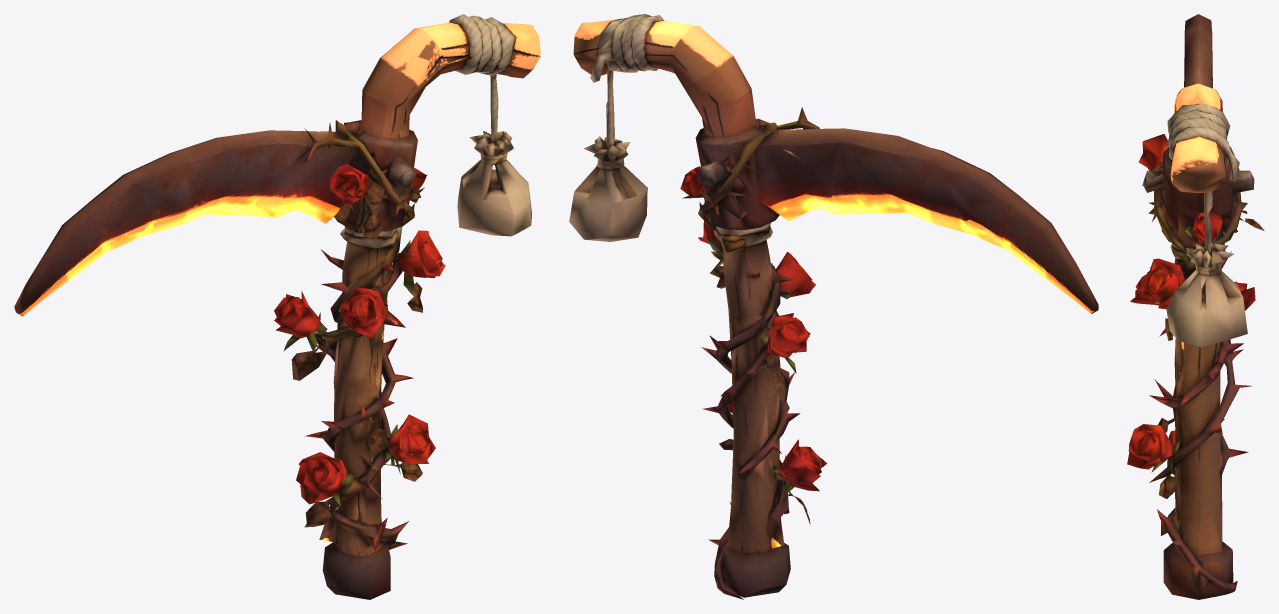
Rendered from UqGardener_Scythe-BUP3SY8Y.glb.
The picture shows the model from 3 angles, left to right: view 1: azimuth 30°, elevation 25°; view 2: azimuth 150°, elevation 25°; view 3: azimuth 270°, elevation 25°; orthographic projection.
Visible parts, largest first — view 1: tripo_node_ec9a44a7-088e-430a-a342-aabb72b187aa; view 2: tripo_node_ec9a44a7-088e-430a-a342-aabb72b187aa; view 3: tripo_node_ec9a44a7-088e-430a-a342-aabb72b187aa.
Boxes of the visible parts, x1,y1,x2,y2 form: tripo_node_ec9a44a7-088e-430a-a342-aabb72b187aa: (14,14,540,599); tripo_node_ec9a44a7-088e-430a-a342-aabb72b187aa: (569,14,1098,599); tripo_node_ec9a44a7-088e-430a-a342-aabb72b187aa: (1127,14,1264,599).
Size of the model in its own units: 2.59 by 2.6 by 0.6044.
1 material, 1 textured.
